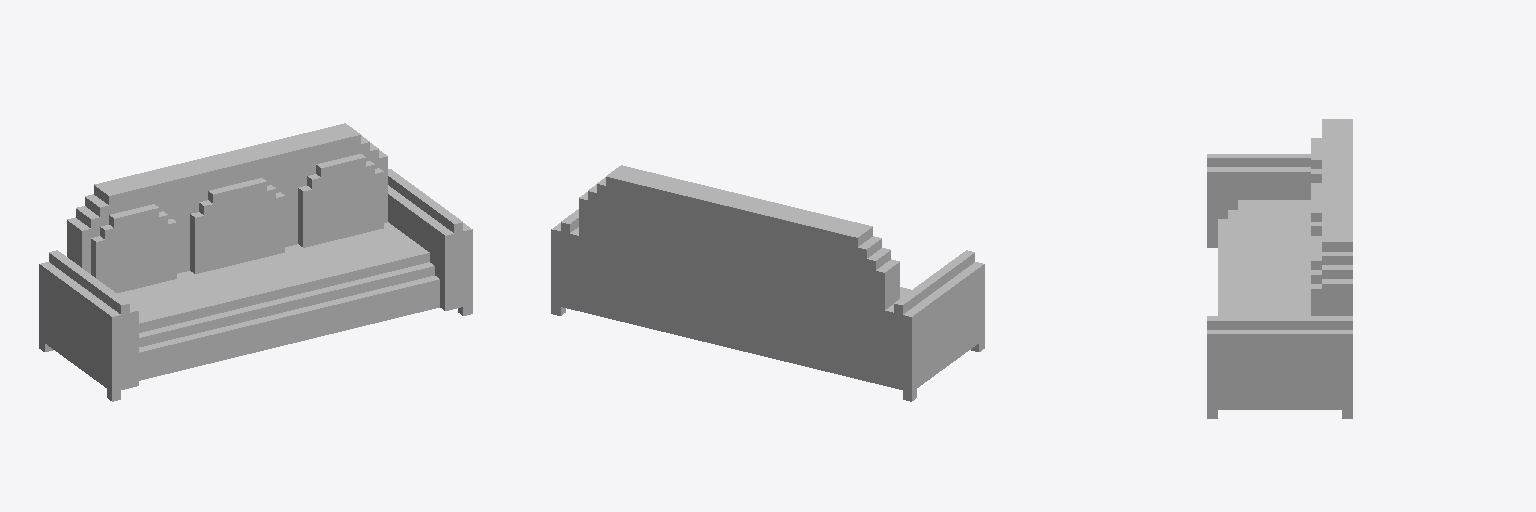
File: sofa.obj
The picture shows the model from 3 angles: view 1: azimuth 30°, elevation 25°; view 2: azimuth 150°, elevation 25°; view 3: azimuth 270°, elevation 25°; orthographic projection.
Parts seen in each view (by area): view 1: object 1; view 2: object 1; view 3: object 1.
Boxes of the visible parts, x1=… form: object 1: x1=39, y1=123, x2=472, y2=401; object 1: x1=551, y1=165, x2=984, y2=401; object 1: x1=1207, y1=119, x2=1352, y2=418.
Bounding box in the file's own units: 4 × 1.6 × 1.4.